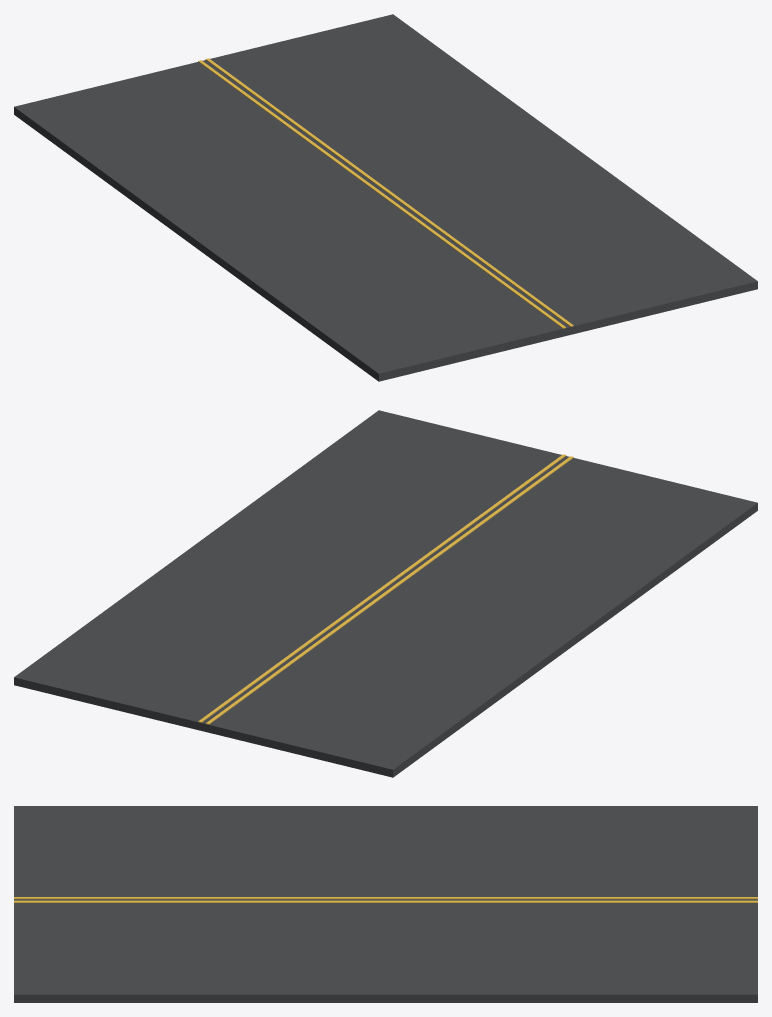
Rendered from street_20m.glb.
The picture shows the model from 3 angles, top to bottom: view 1: azimuth 30°, elevation 25°; view 2: azimuth 150°, elevation 25°; view 3: azimuth 270°, elevation 25°; orthographic projection.
Parts seen in each view (by area): view 1: street_20m; view 2: street_20m; view 3: street_20m.
Part boxes in pixels (bbox=[...]): street_20m: bbox=[14, 14, 757, 381]; street_20m: bbox=[14, 410, 757, 777]; street_20m: bbox=[14, 806, 757, 1002].
Bounding box in the file's own units: 12 × 0.2665 × 20.
